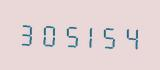five: (98, 20, 117, 51), (58, 19, 77, 49)
four: (118, 21, 137, 51)
one: (78, 19, 97, 50)
three: (17, 17, 36, 48)
zero: (37, 18, 56, 49)
